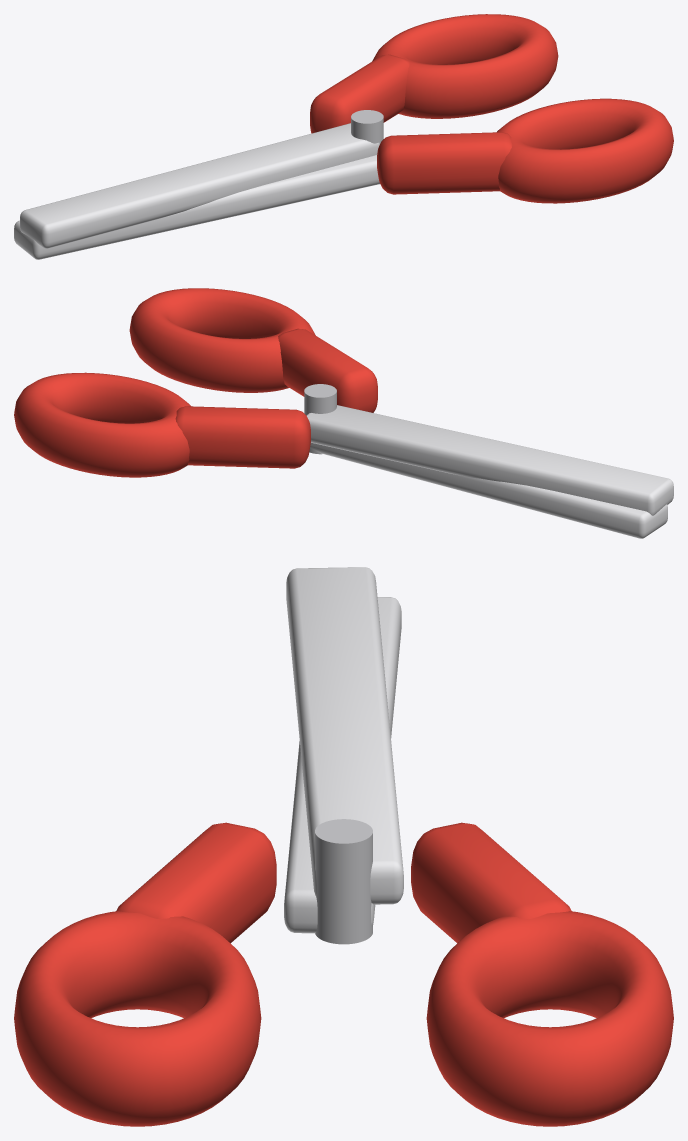
The model's file is scissors.glb.
The picture shows the model from 3 angles, top to bottom: view 1: azimuth 30°, elevation 25°; view 2: azimuth 150°, elevation 25°; view 3: azimuth 270°, elevation 25°; orthographic projection. The views are drawn at different scales.
Parts seen in each view (by area): view 1: Torus.003, Cube.004, Torus.002, Cube.007, Cube.006, Cube.005, Cylinder.001; view 2: Torus.002, Cube.004, Torus.003, Cube.005, Cube.006, Cube.007, Cylinder.001; view 3: Torus.002, Torus.003, Cube.004, Cube.005, Cube.007, Cylinder.001, Cube.006.
Part boxes in pixels (box(x1,y1,x2,y2)): Torus.003: box(497, 98, 673, 203); Cube.004: box(20, 123, 379, 248); Torus.002: box(372, 14, 558, 118); Cube.007: box(377, 132, 512, 194); Cube.006: box(14, 155, 379, 259); Cube.005: box(310, 54, 409, 133); Cylinder.001: box(351, 110, 383, 143); Torus.002: box(14, 372, 190, 477); Cube.004: box(306, 405, 673, 515); Torus.003: box(129, 288, 315, 392); Cube.005: box(175, 406, 310, 468); Cube.006: box(310, 443, 667, 538); Cube.007: box(278, 328, 377, 412); Cylinder.001: box(304, 384, 336, 454); Torus.002: box(426, 911, 673, 1126); Torus.003: box(14, 911, 261, 1126); Cube.004: box(286, 567, 403, 904); Cube.005: box(411, 822, 571, 943); Cube.007: box(116, 822, 276, 943); Cylinder.001: box(315, 819, 372, 944); Cube.006: box(284, 597, 401, 933).
Bounding box in the file's own units: 4.54 × 0.42 × 2.49.
